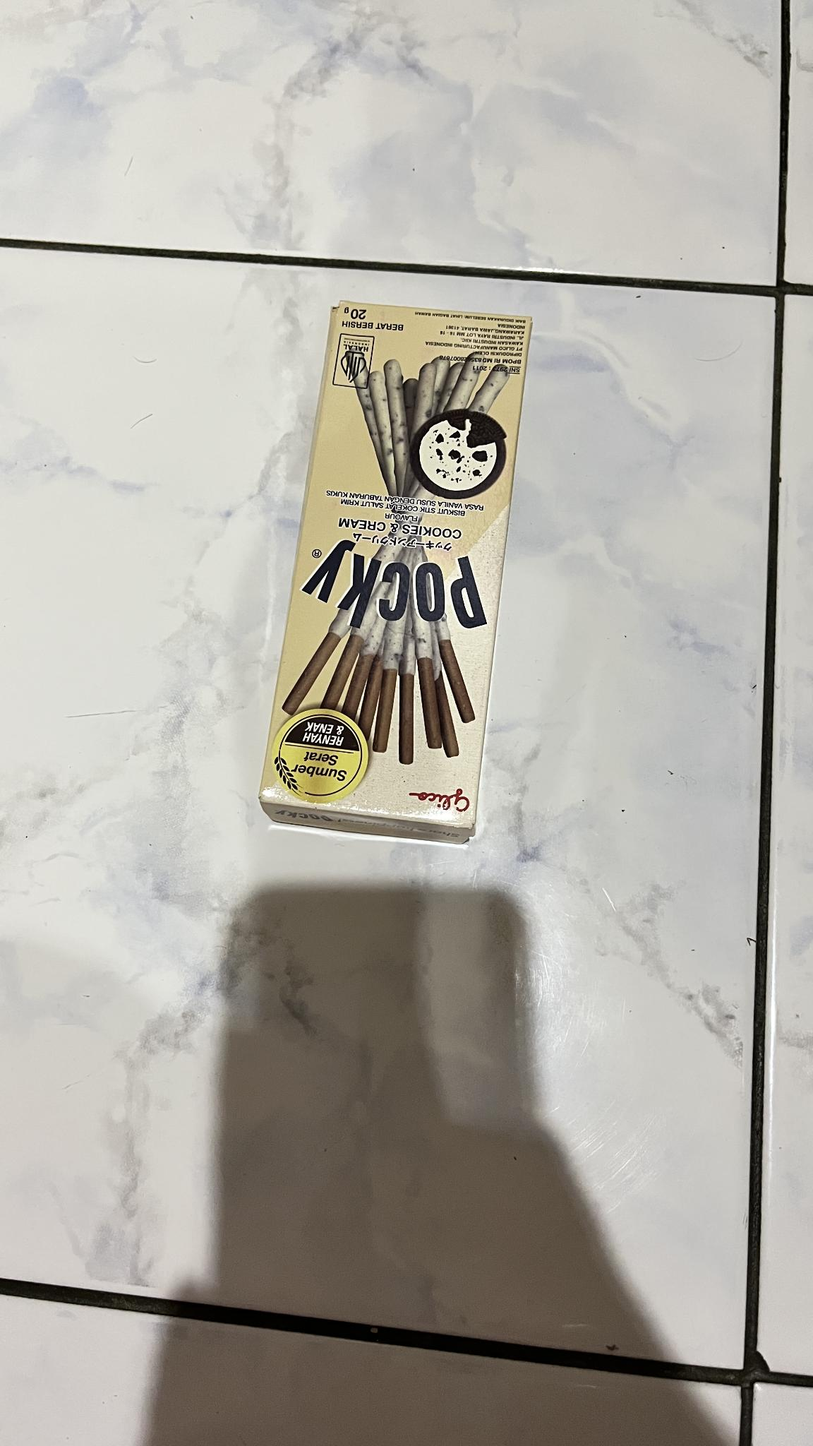Kertas: (272, 308, 534, 839)
